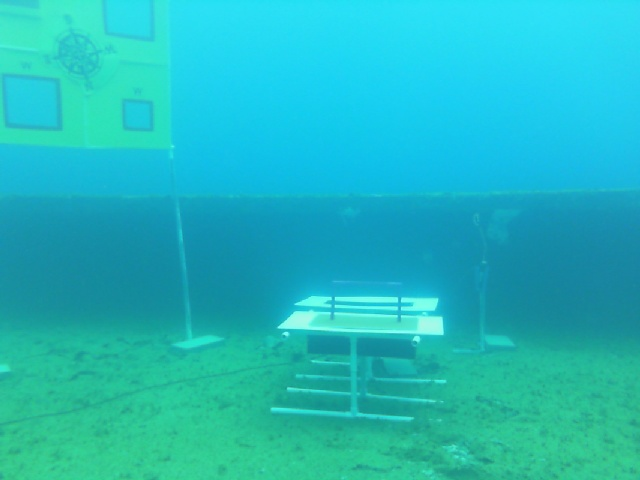bin_cover: (265, 263, 475, 429)
torpedo_hole: (5, 75, 63, 126), (121, 96, 155, 131)
